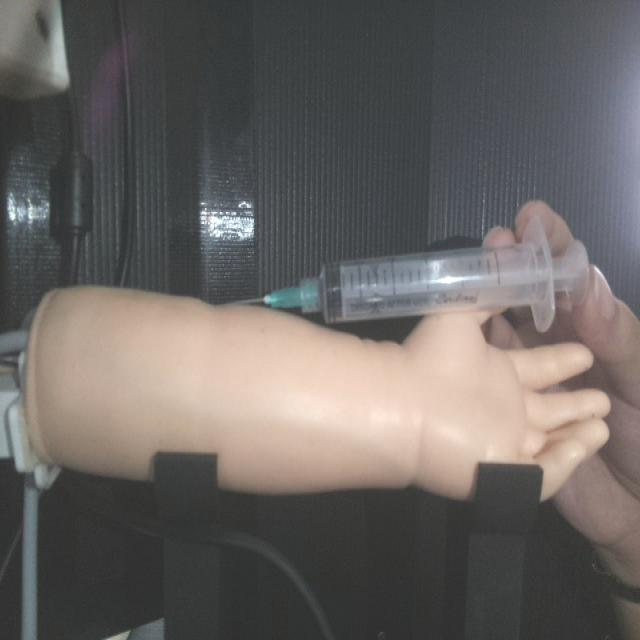Below 15 degrees: (226, 220, 591, 332)
